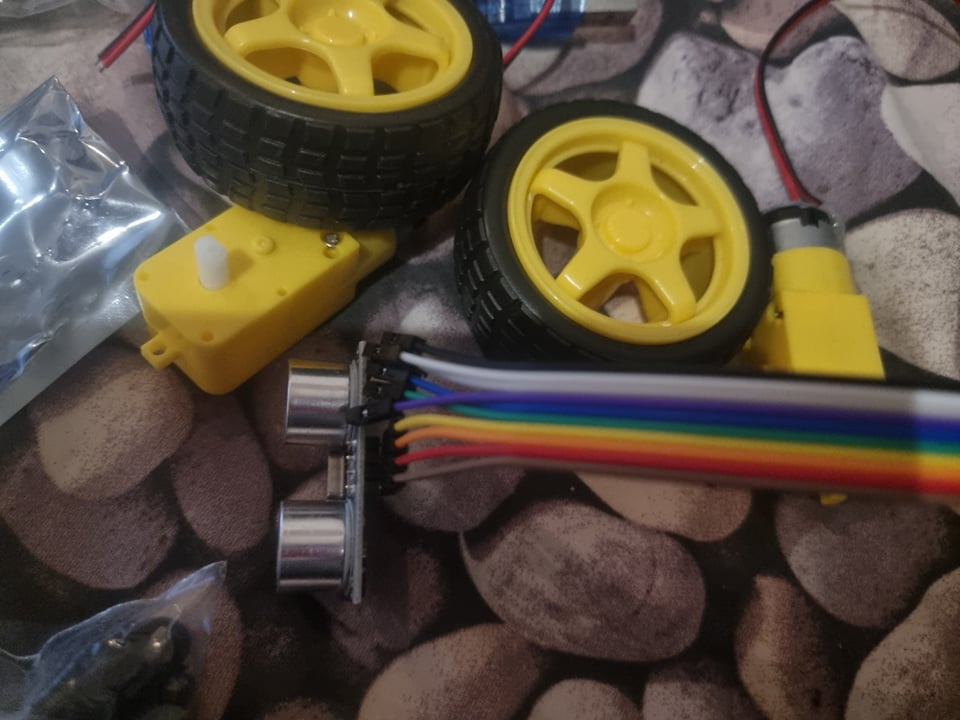SENSOR: (268, 336, 367, 613)
